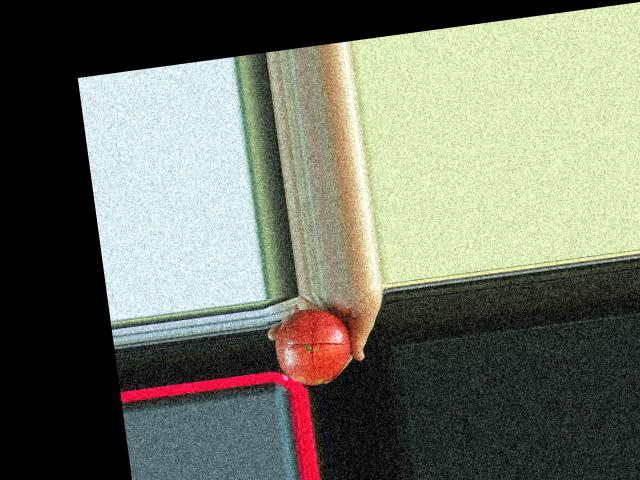tomato: (269, 303, 355, 389)
